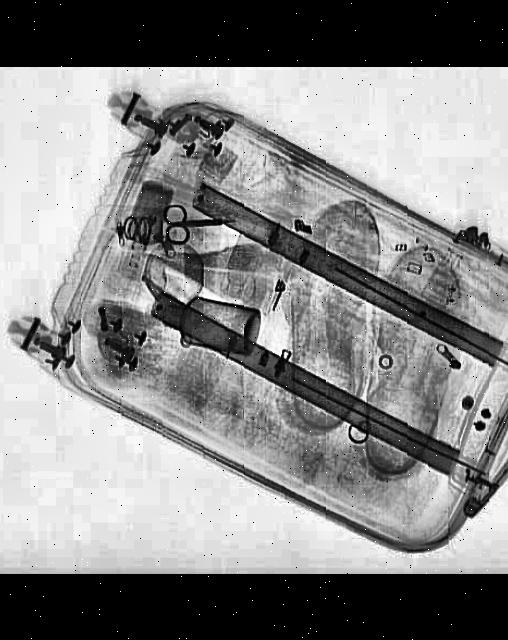Scissors: (162, 203, 234, 245)
